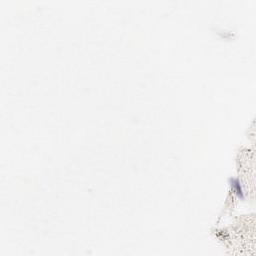nucleus: (228, 178, 243, 198)
